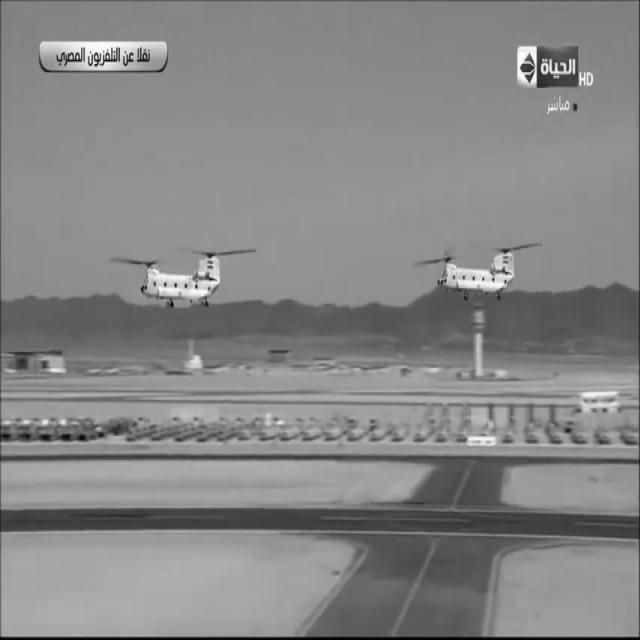helikopter: (117, 225, 248, 323), (414, 218, 542, 318)
